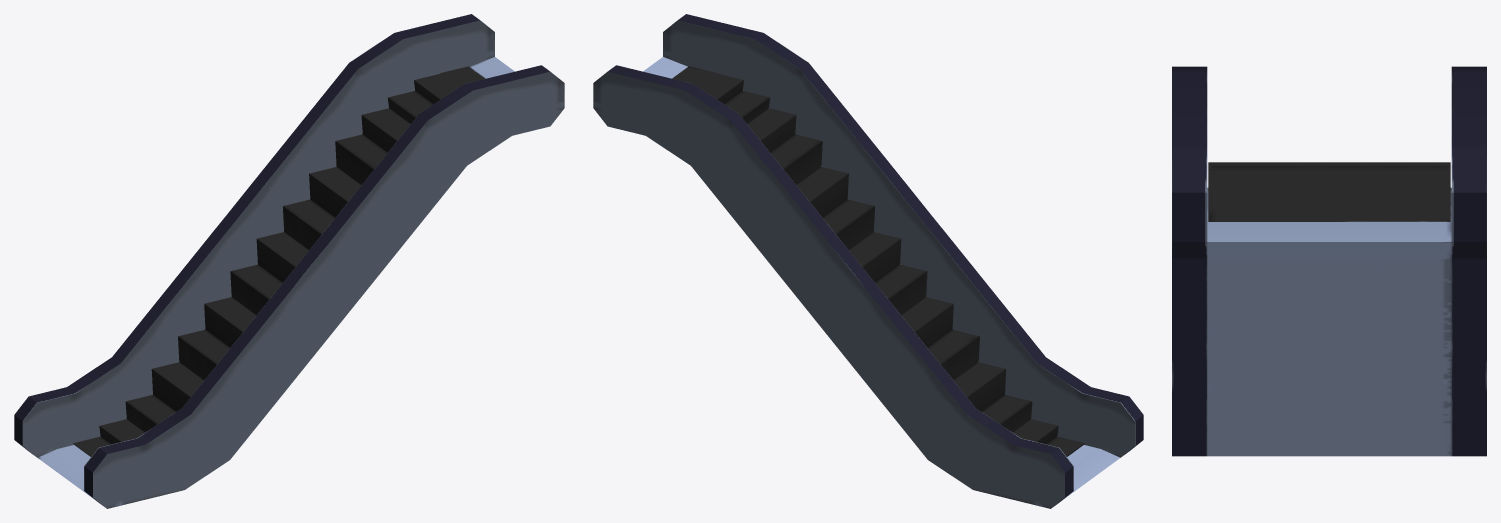
The model's file is decor_Escalator.fbx.
The picture shows the model from 3 angles, left to right: view 1: azimuth 30°, elevation 25°; view 2: azimuth 150°, elevation 25°; view 3: azimuth 270°, elevation 25°; orthographic projection. The views are drawn at different scales.
Visible parts, largest first — view 1: Escalator; view 2: Escalator; view 3: Escalator.
Boxes of the visible parts, box(x1,y1,x2,y2) form: Escalator: box(14, 14, 564, 508); Escalator: box(593, 14, 1143, 508); Escalator: box(1172, 66, 1486, 456).
Size of the model in its own units: 1800 by 1200 by 520.
1 material, 1 textured.
